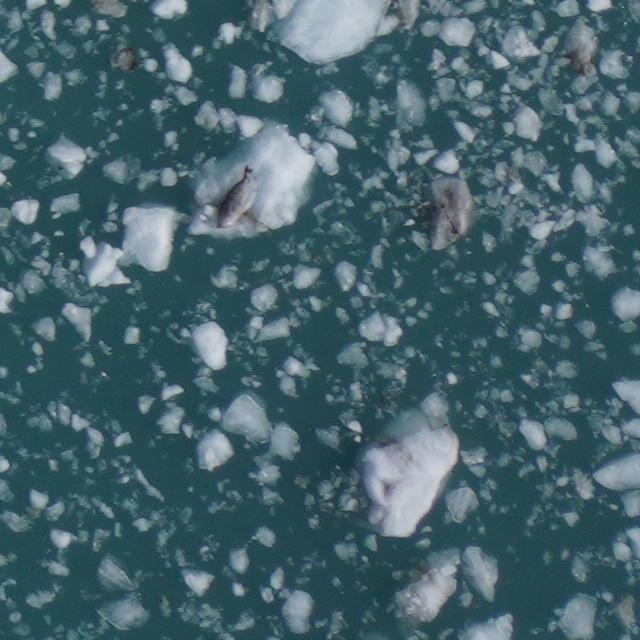seal: (218, 166, 252, 227)
